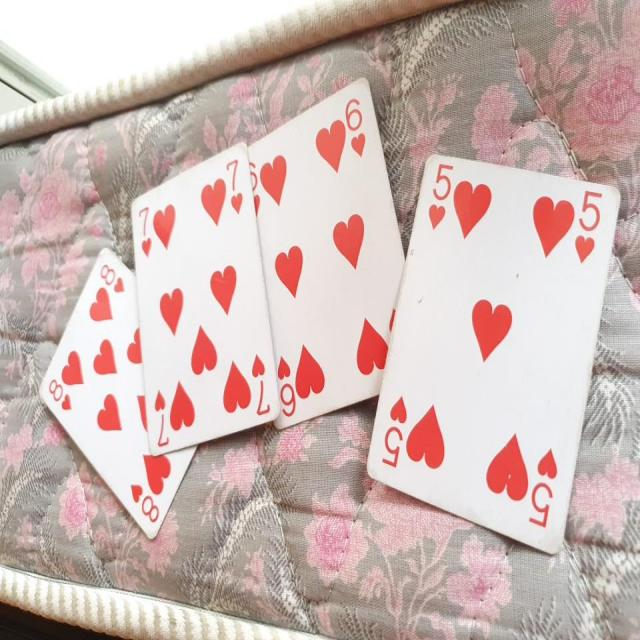5 Hearts: (361, 146, 624, 565)
6 Hearts: (254, 73, 403, 438)
7 Hearts: (114, 137, 281, 454)
8 Hearts: (40, 241, 198, 523)
